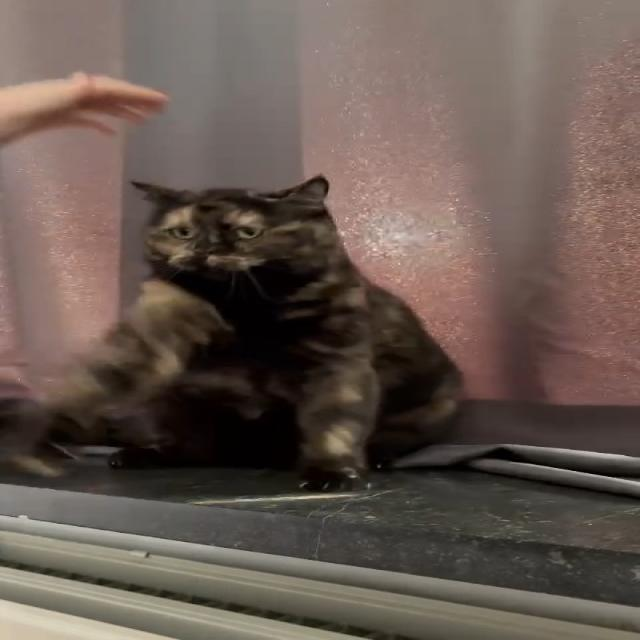authorized: (11, 173, 465, 492)
